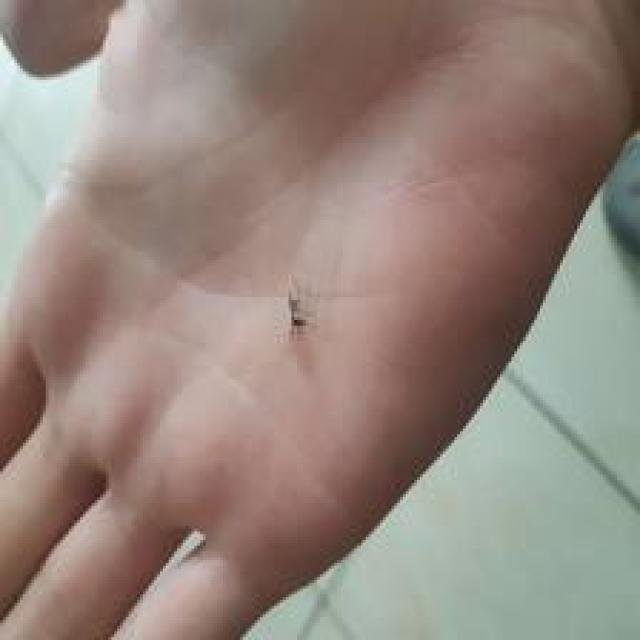Aedes albopictus: (283, 273, 314, 338)
